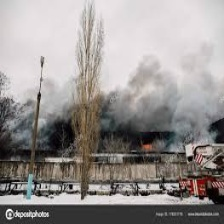smoke: (27, 51, 224, 144)
